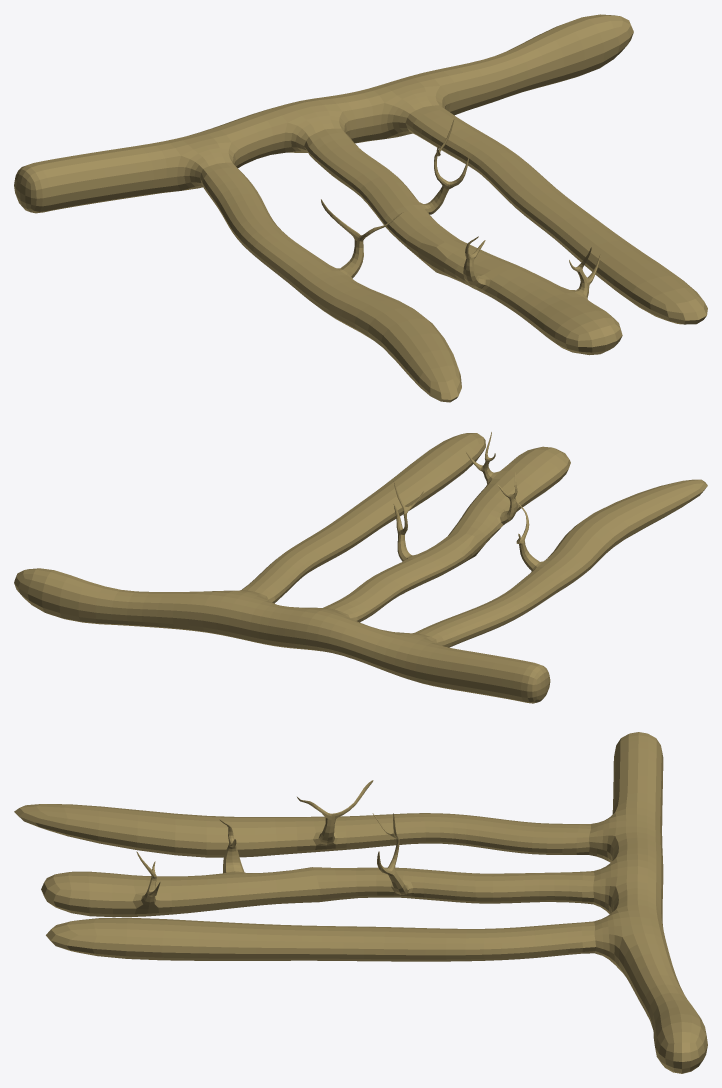
Rendered from 01 subdivide.fbx.
The picture shows the model from 3 angles, top to bottom: view 1: azimuth 30°, elevation 25°; view 2: azimuth 150°, elevation 25°; view 3: azimuth 270°, elevation 25°; orthographic projection. The views are drawn at different scales.
Parts seen in each view (by area): view 1: Cube; view 2: Cube; view 3: Cube.
Part boxes in pixels (<box>): Cube: <box>14,14,707,402</box>; Cube: <box>14,432,707,703</box>; Cube: <box>14,732,707,1073</box>.
Size of the model in its own units: 7.98 by 1.51 by 7.62.
